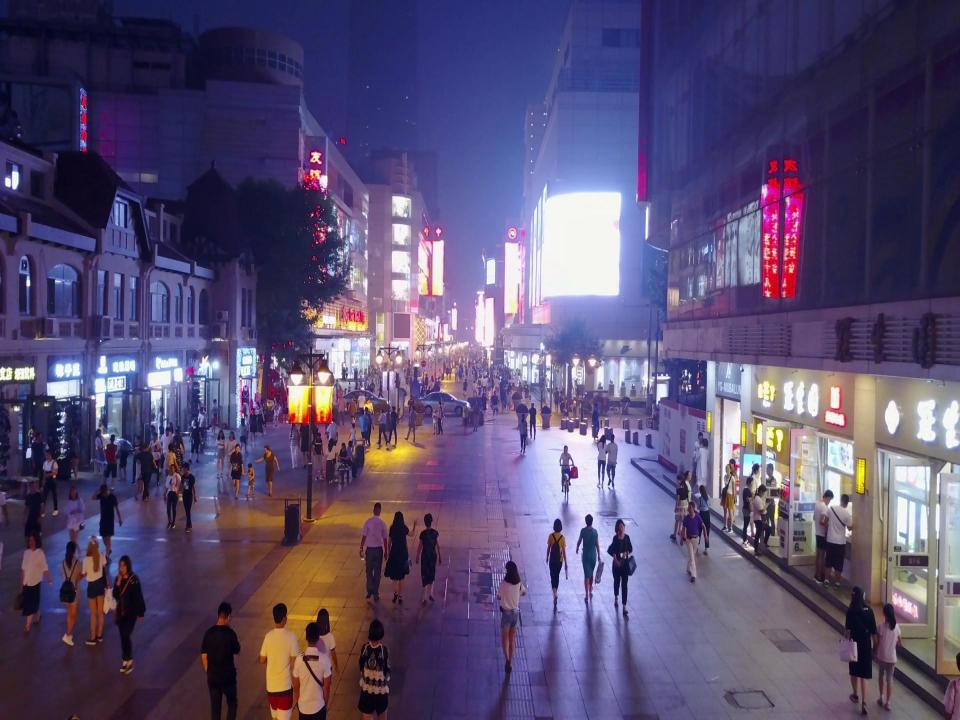car: (418, 391, 471, 416)
